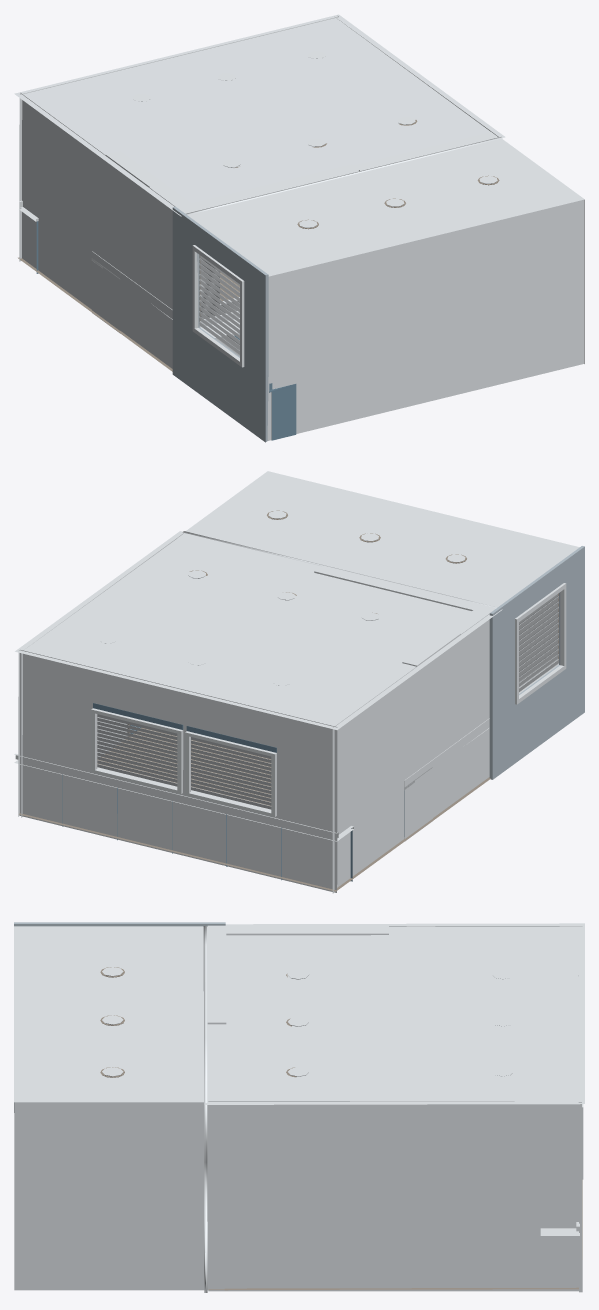
The model's file is Room.fbx.
The picture shows the model from 3 angles, top to bottom: view 1: azimuth 30°, elevation 25°; view 2: azimuth 150°, elevation 25°; view 3: azimuth 270°, elevation 25°; orthographic projection. The views are drawn at different scales.
Visible parts, largest first — view 1: Wall.02, Wall.01, upshelf01, Sinks01, Shelf; view 2: Wall.01, Wall.02, upshelf01, Sinks01, Sinks001, frontwall01; view 3: frontwall01, Wall.01, frontwall02, Wall.02, upshelf01.
Part boxes in pixels (x1,y1,x2,y2): Wall.02: (172, 131, 584, 442); Wall.01: (14, 14, 505, 371); upshelf01: (105, 151, 359, 212); Sinks01: (91, 251, 239, 331); Shelf: (199, 311, 296, 440); Wall.01: (15, 531, 502, 893); Wall.02: (176, 471, 584, 779); upshelf01: (314, 565, 495, 666); Sinks01: (404, 718, 489, 841); Sinks001: (14, 753, 353, 881); frontwall01: (21, 533, 183, 817); frontwall01: (208, 1101, 578, 1291); Wall.01: (203, 923, 584, 1292); frontwall02: (14, 1102, 224, 1290); Wall.02: (14, 922, 227, 1290); upshelf01: (207, 925, 388, 1024).
Bounding box in the file's own units: 618 × 303 × 815.
